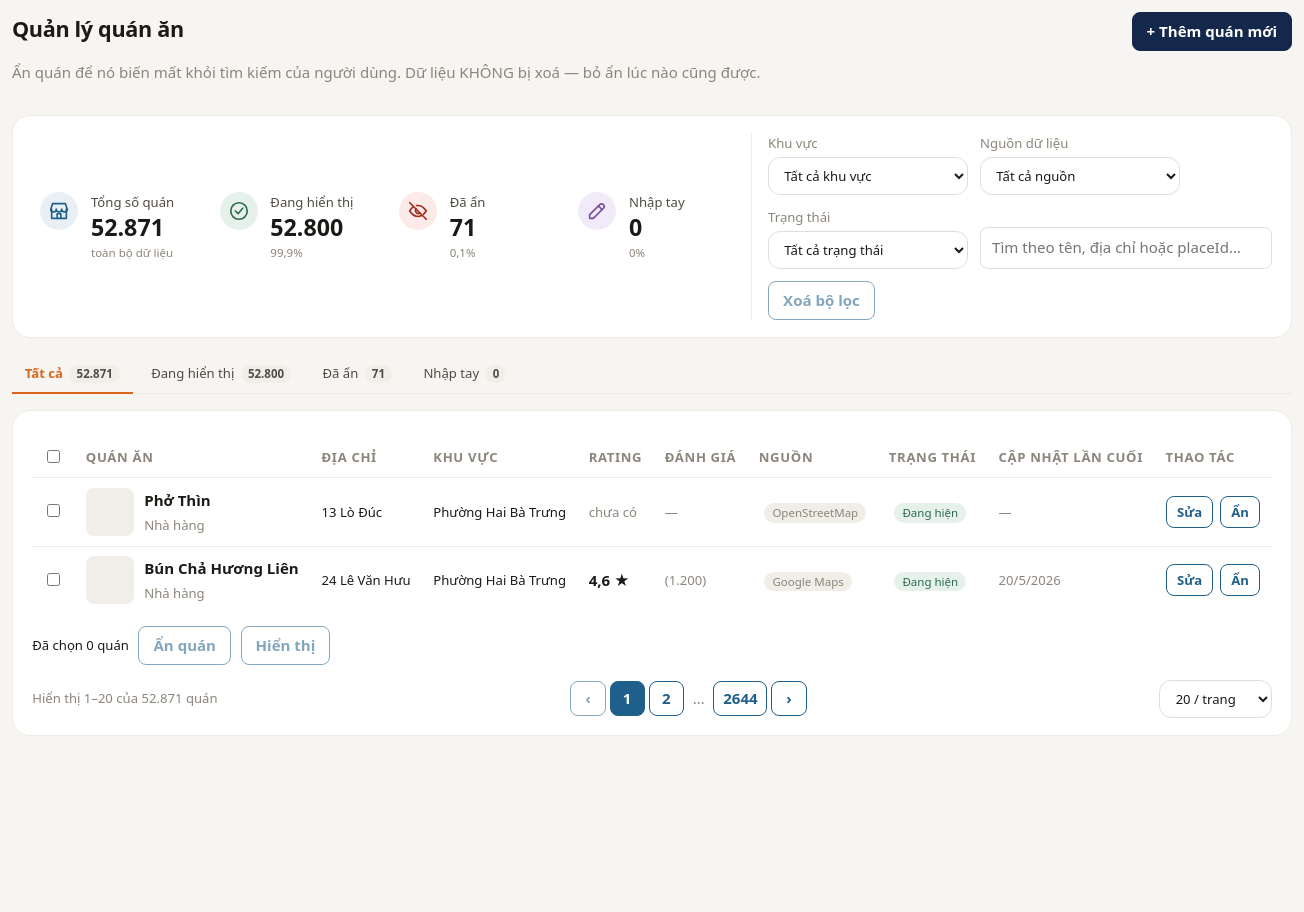
Test: Man "Quan ly quan an" › chon nhieu roi an hang loat goi DUNG danh sach ma
This screenshot has width=1304, height=912.
Expected: the text "Phở Thìn" is shown, left=144, top=490, right=211, bottom=510
Expected: the button "Ẩn quán" is disabled, left=138, top=626, right=231, bottom=665
Click the checkbox named "Chọn Phở Thìn" at (54, 511), box left=47, top=504, right=60, bottom=517
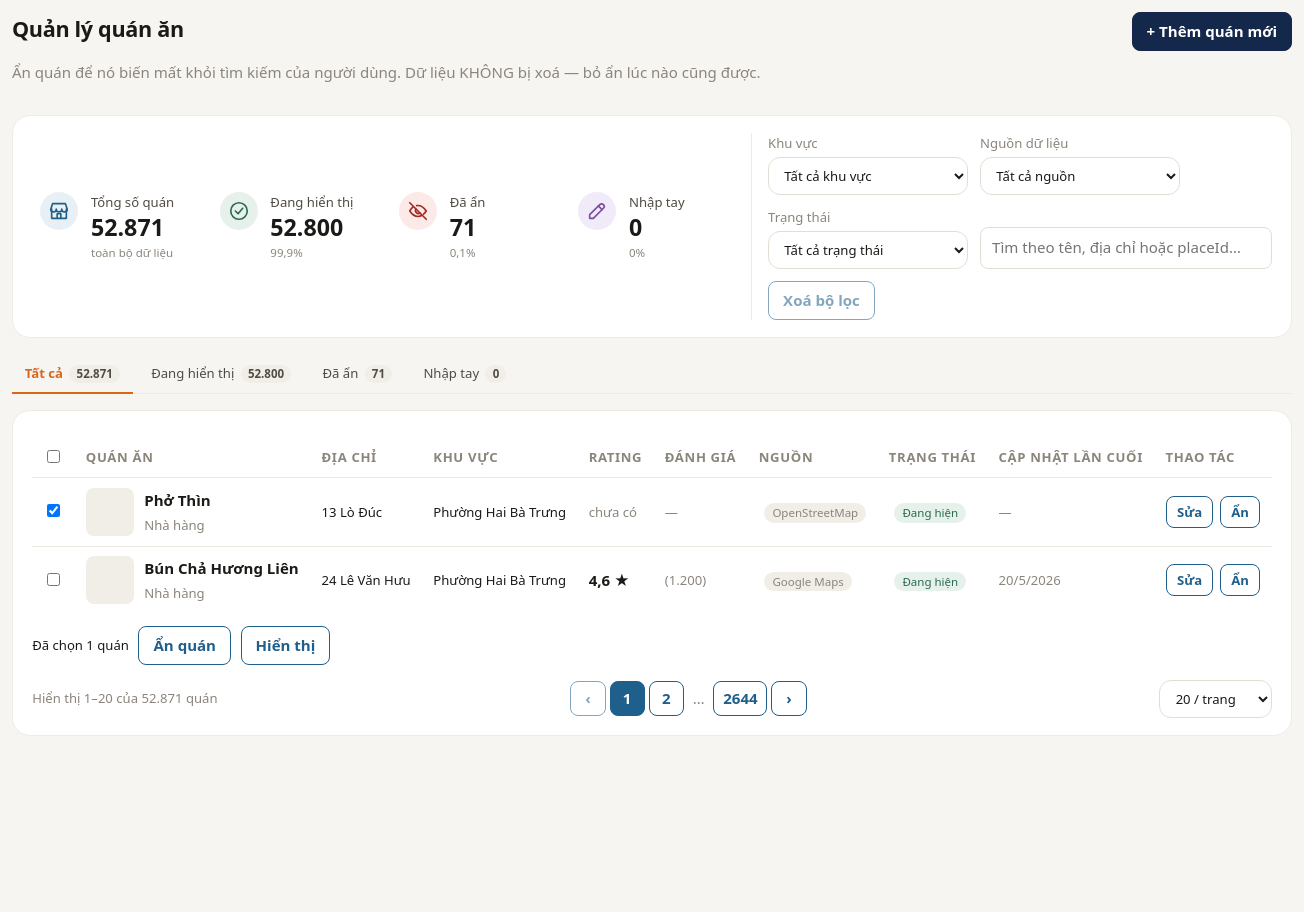
Click the checkbox named "Chọn Bún Chả Hương Liên" at (54, 579), box left=47, top=573, right=60, bottom=586
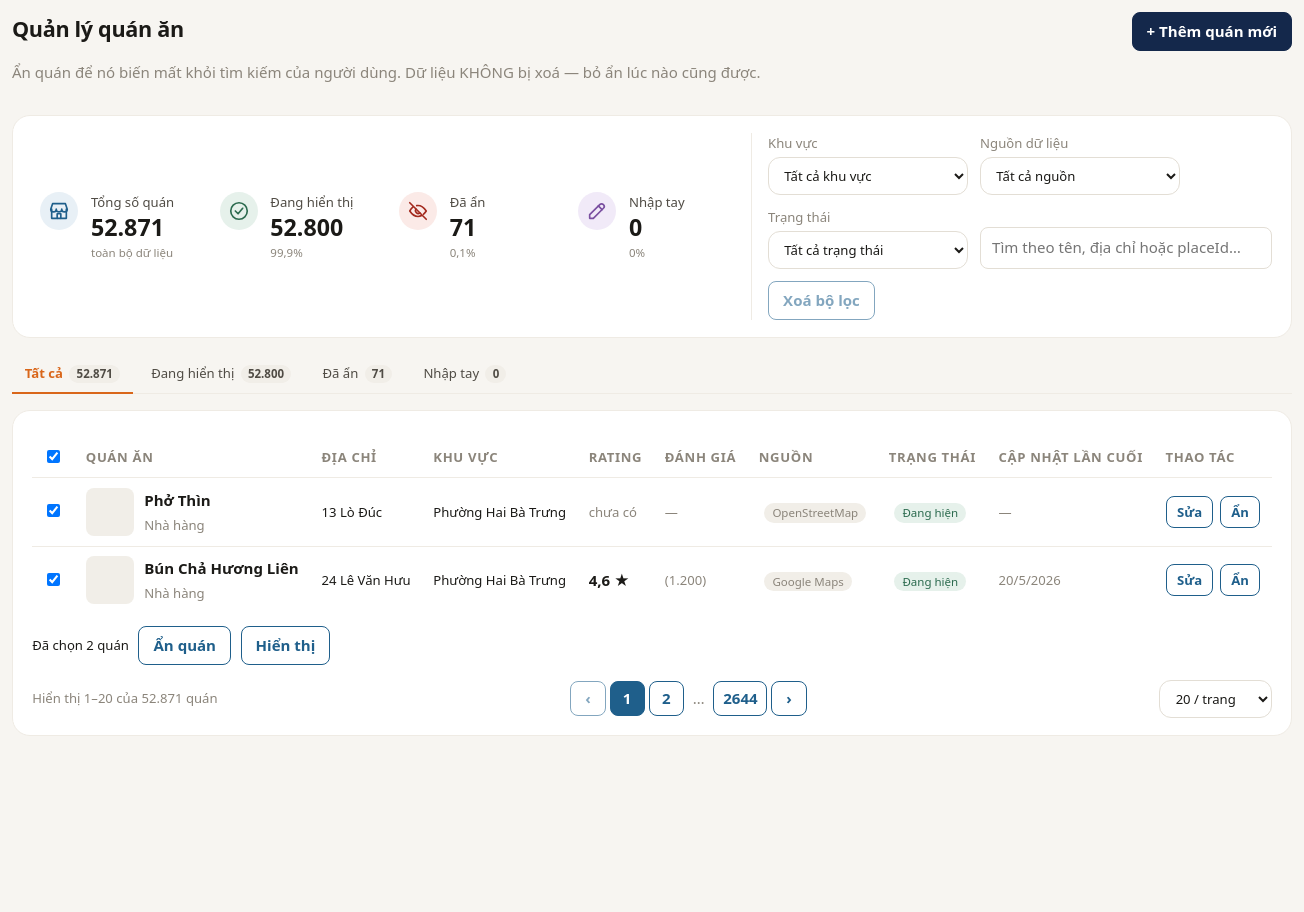
Expected: the text "Đã chọn 2 quán" is shown, left=32, top=635, right=129, bottom=656
Click the button "Ẩn quán" at (185, 645), box left=138, top=626, right=231, bottom=665
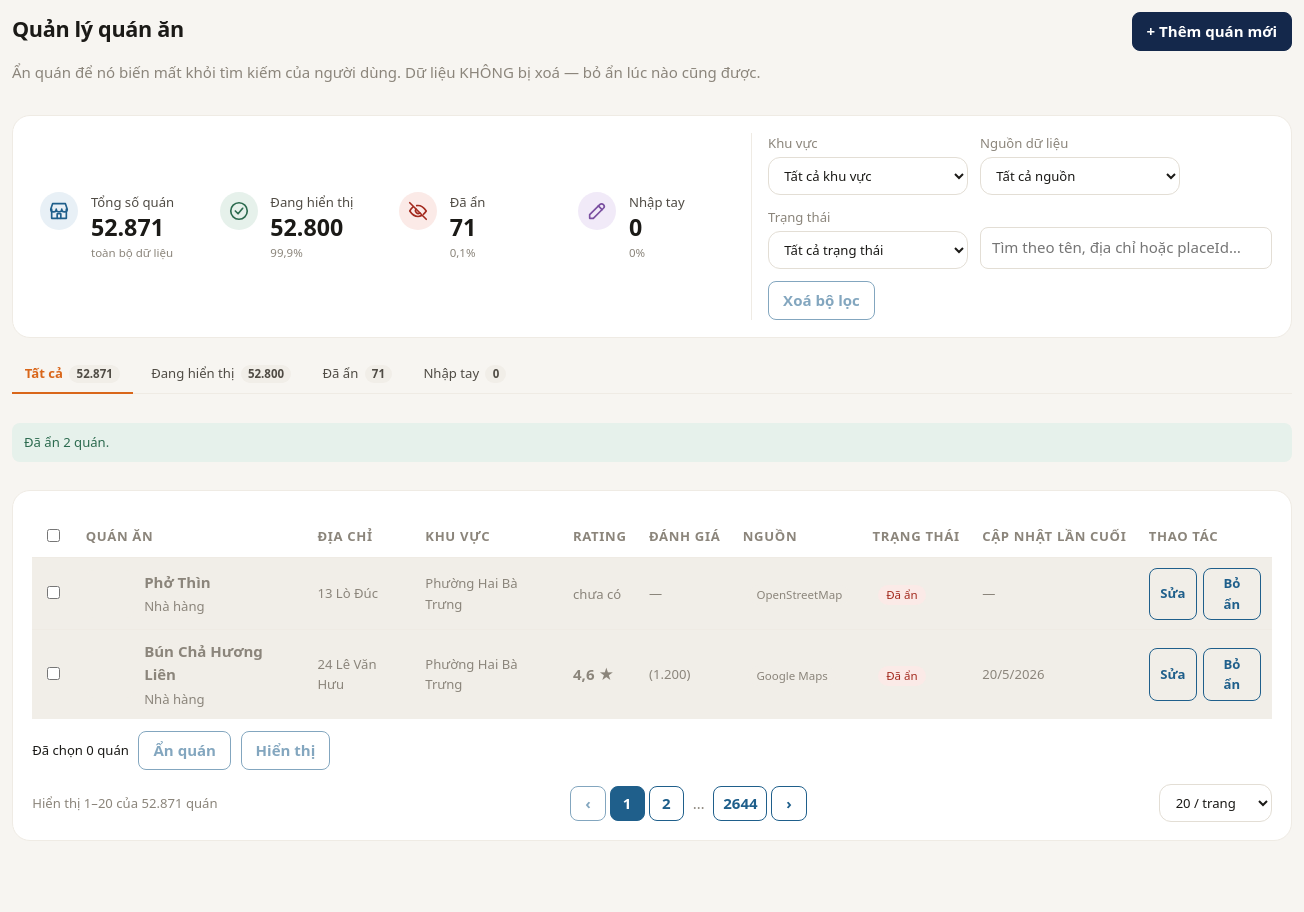
Expected: the text "Đã ẩn 2 quán." is shown, left=12, top=424, right=1292, bottom=462
